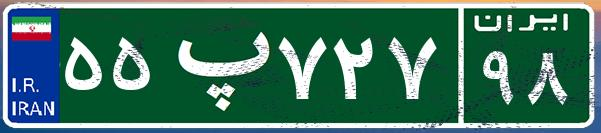2: (330, 28, 385, 110)
5: (57, 26, 110, 107), (110, 28, 158, 105)
7: (385, 28, 445, 110), (273, 28, 330, 110)
8: (525, 38, 570, 115)
9: (475, 38, 525, 113)
پ: (158, 15, 273, 115)
